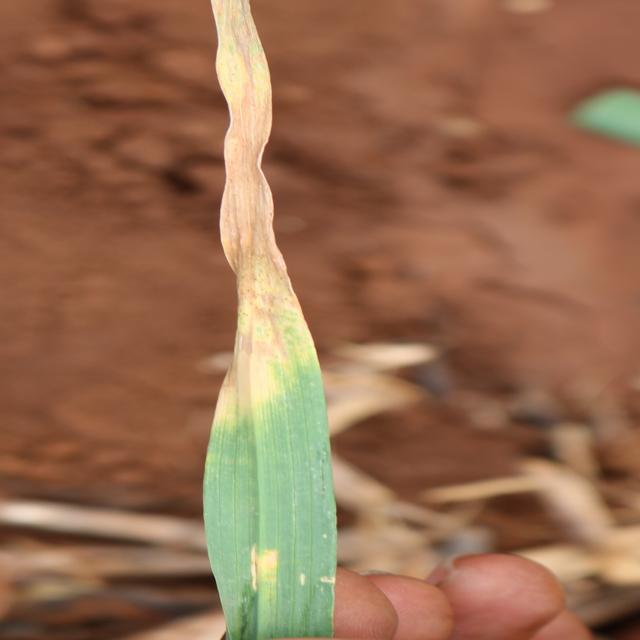Septoria: (224, 0, 268, 420)
